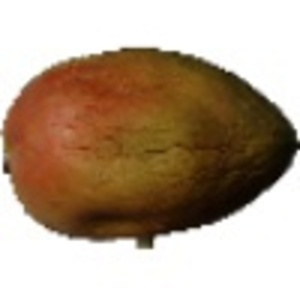mamão: (6, 40, 297, 239)
